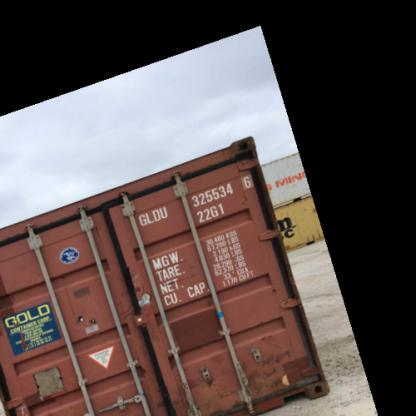Damage: (244, 342, 300, 396), (108, 258, 151, 325), (202, 352, 240, 398), (152, 380, 187, 415), (68, 298, 102, 333), (236, 186, 253, 204)
